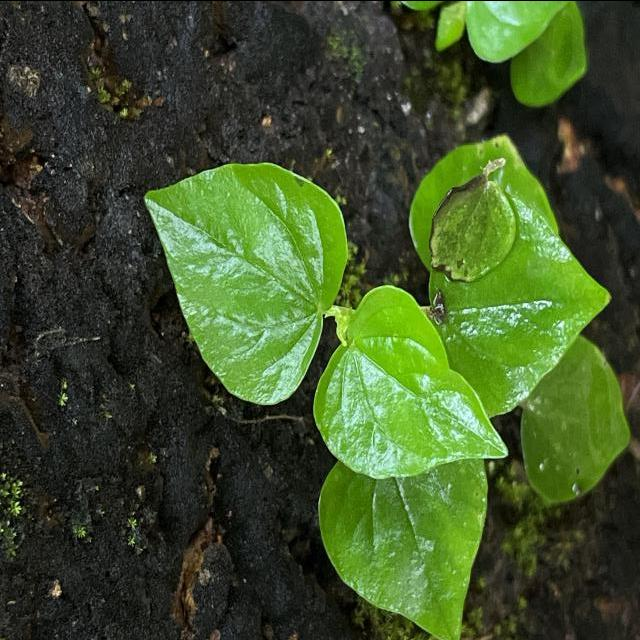Peperomia pellucida: (142, 158, 350, 406), (311, 282, 509, 480)
